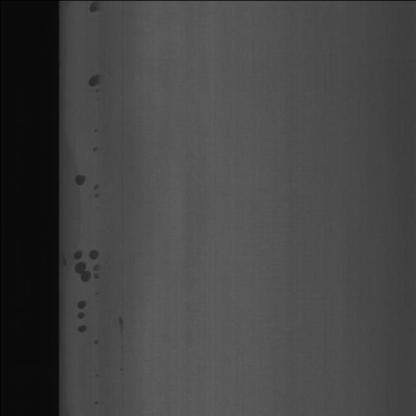oil_spot: (65, 241, 101, 296), (89, 126, 105, 211), (76, 295, 90, 345), (86, 65, 102, 92), (74, 166, 86, 186), (89, 2, 102, 20)
